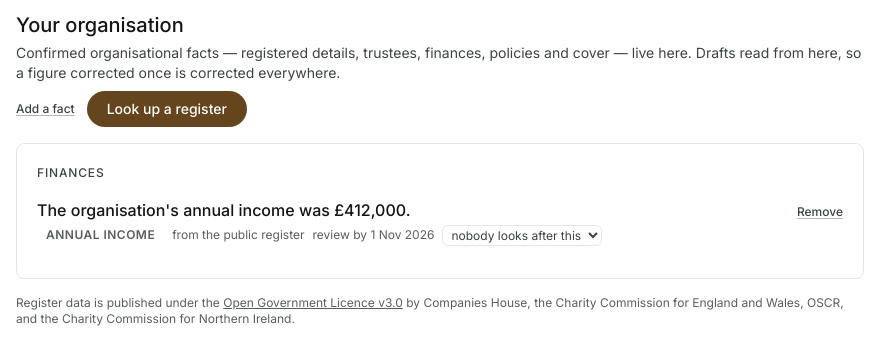
Test case: removing a fact › offers a way back from the first click
Click the button "Remove" at [820, 212], box 797,200 -> 843,224
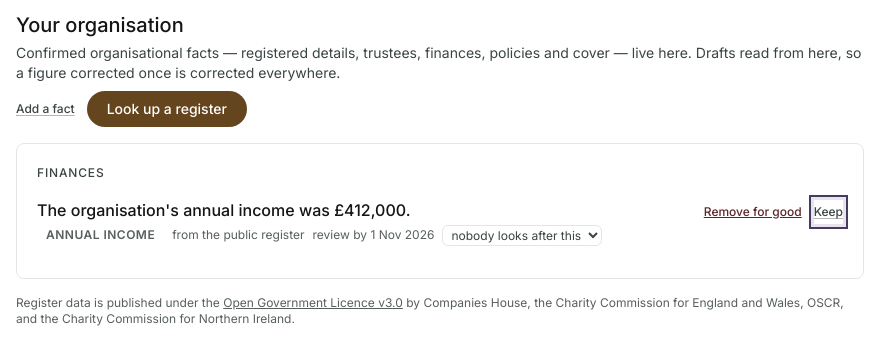
Click the button "Keep" at [828, 212], box 814,200 -> 843,224
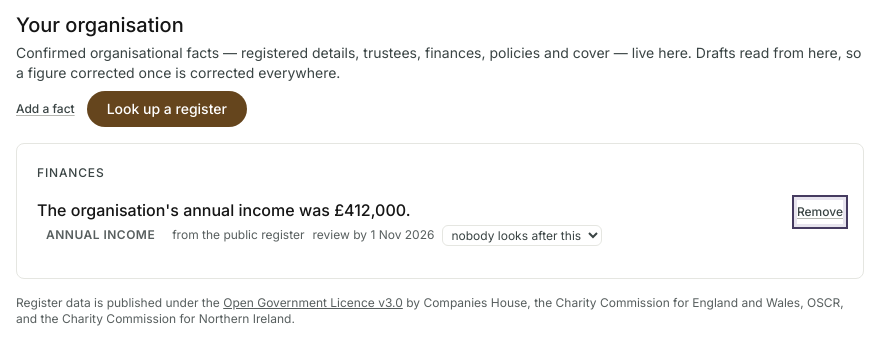
Check: the button "Remove" is shown, box 797,200 -> 843,224
